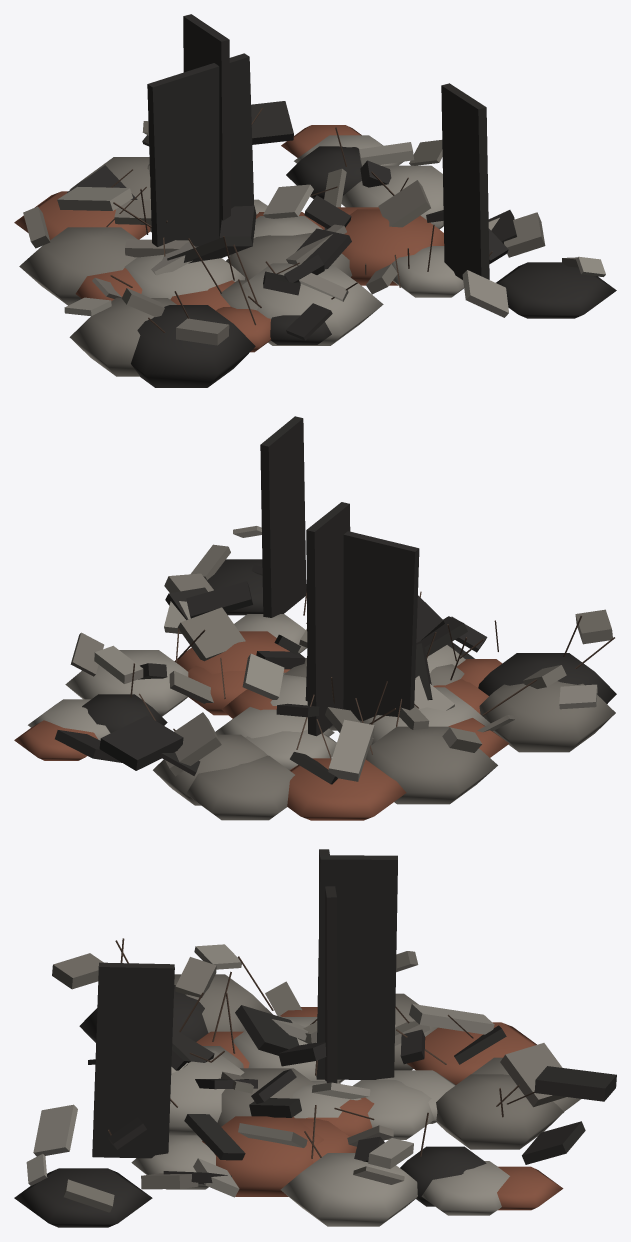
File: rubble_2x2.glb
The picture shows the model from 3 angles, top to bottom: view 1: azimuth 30°, elevation 25°; view 2: azimuth 150°, elevation 25°; view 3: azimuth 270°, elevation 25°; orthographic projection. The views are drawn at different scales.
Visible parts, largest first — view 1: rubble_2x2; view 2: rubble_2x2; view 3: rubble_2x2.
Part boxes in pixels (left/top/right/bottom): rubble_2x2: left=14, top=14, right=616, bottom=387; rubble_2x2: left=14, top=416, right=616, bottom=820; rubble_2x2: left=14, top=849, right=616, bottom=1227.
Size of the model in its own units: 19.68 by 10.06 by 20.8.
